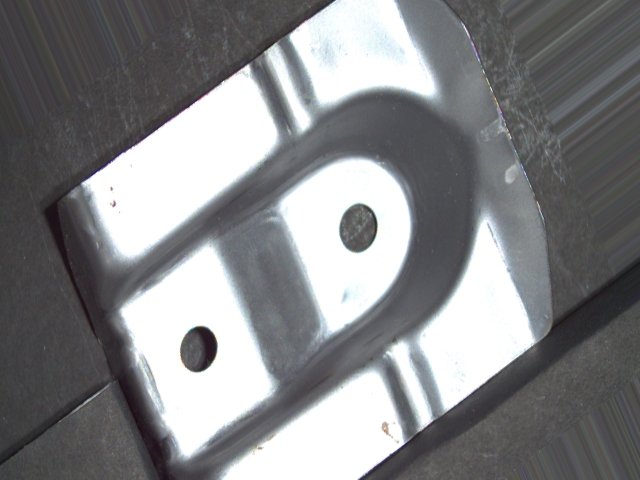defect: (335, 195, 382, 258)
